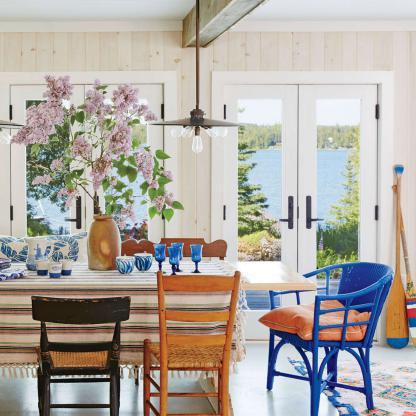chair: (264, 259, 396, 416), (140, 265, 248, 416), (22, 292, 132, 416)
door: (214, 83, 304, 305), (302, 84, 379, 326), (4, 87, 90, 236), (90, 85, 166, 242)
light: (149, 2, 236, 164)
table: (0, 254, 316, 387)
